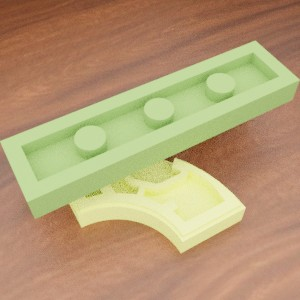lego: (0, 40, 300, 219), (50, 147, 245, 253)
